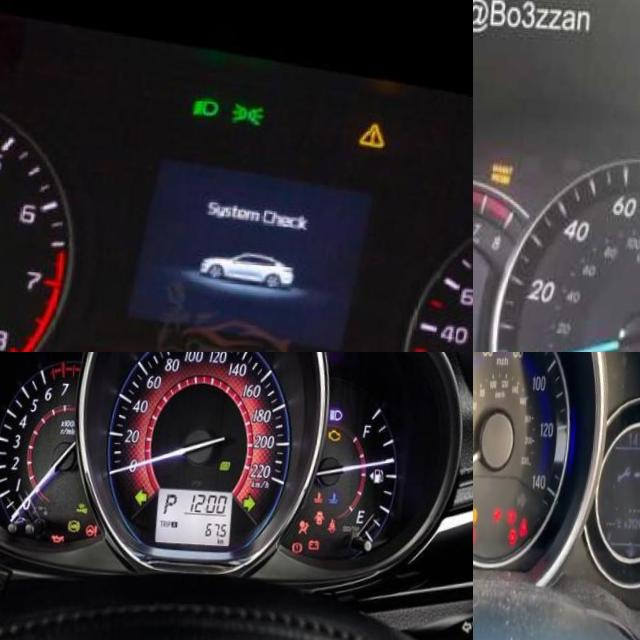Electronic Power Steering: (94, 521, 104, 534)
High Engine Coolant Temperature: (320, 486, 330, 497)
Seat Belt: (334, 513, 345, 528)
